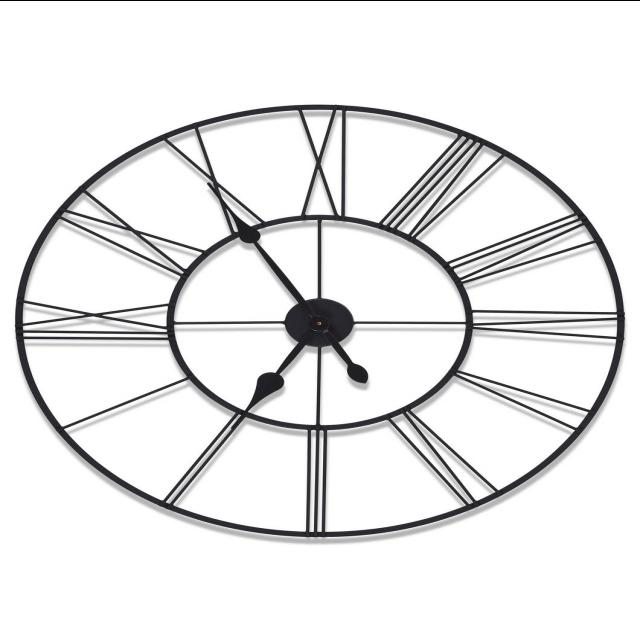clock: (2, 100, 640, 582)
